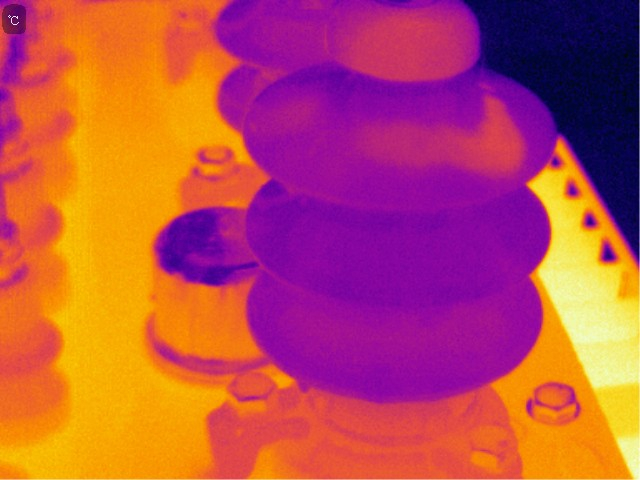Oil: (356, 86, 534, 180), (327, 1, 484, 81), (260, 88, 328, 144), (260, 182, 302, 215), (296, 372, 314, 395)
